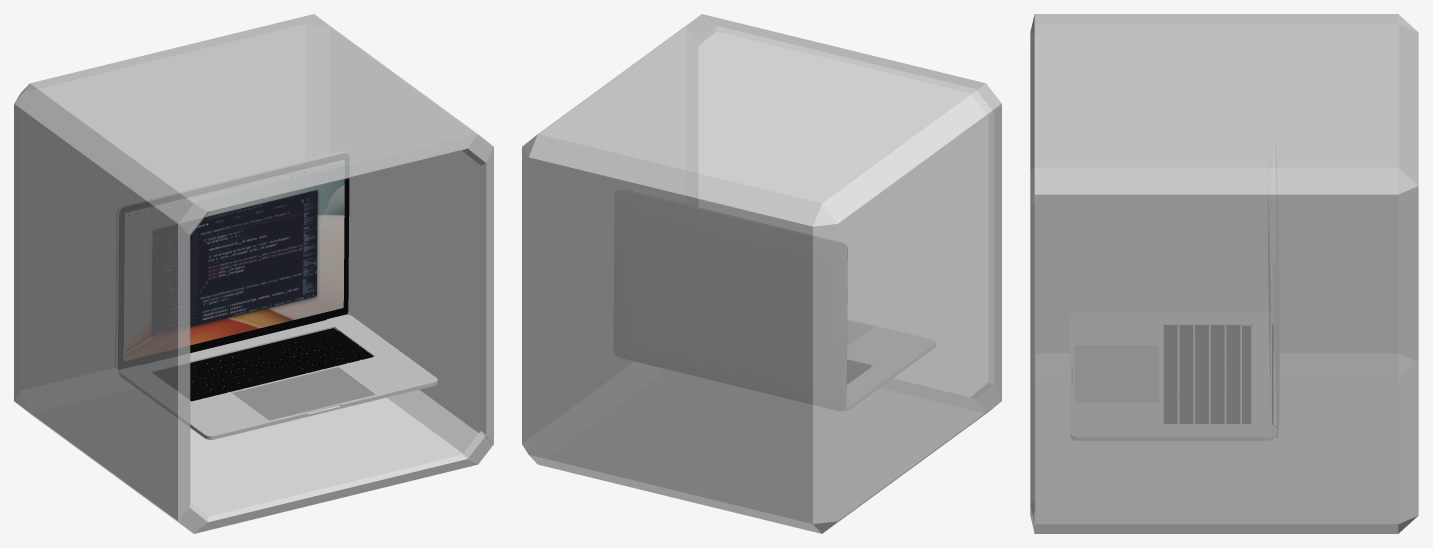
The model's file is computer.glb.
The picture shows the model from 3 angles, left to right: view 1: azimuth 30°, elevation 25°; view 2: azimuth 150°, elevation 25°; view 3: azimuth 270°, elevation 25°; orthographic projection. The views are drawn at different scales.
Parts seen in each view (by area): view 1: Cube.008, screen, base, keyboard, screen.002, screen.001, touchbar; view 2: Cube.008, screen.001, base; view 3: Cube.008, base, keyboard, screen.001, touchbar.
Boxes of the visible parts, x1=… form: Cube.008: x1=14, y1=14, x2=493, y2=533; screen: x1=125, y1=161, x2=344, y2=360; base: x1=120, y1=314, x2=437, y2=439; keyboard: x1=158, y1=331, x2=372, y2=401; screen.002: x1=118, y1=154, x2=349, y2=369; screen.001: x1=116, y1=152, x2=347, y2=370; touchbar: x1=153, y1=328, x2=337, y2=375; Cube.008: x1=522, y1=14, x2=1001, y2=533; screen.001: x1=614, y1=190, x2=846, y2=410; base: x1=844, y1=319, x2=935, y2=410; Cube.008: x1=1030, y1=14, x2=1418, y2=533; base: x1=1071, y1=312, x2=1273, y2=440; keyboard: x1=1164, y1=325, x2=1239, y2=423; screen.001: x1=1274, y1=133, x2=1278, y2=437; touchbar: x1=1242, y1=326, x2=1250, y2=423.
Size of the model in its own units: 2 by 2 by 1.92.
Materials: 7 (1 with a texture image).
